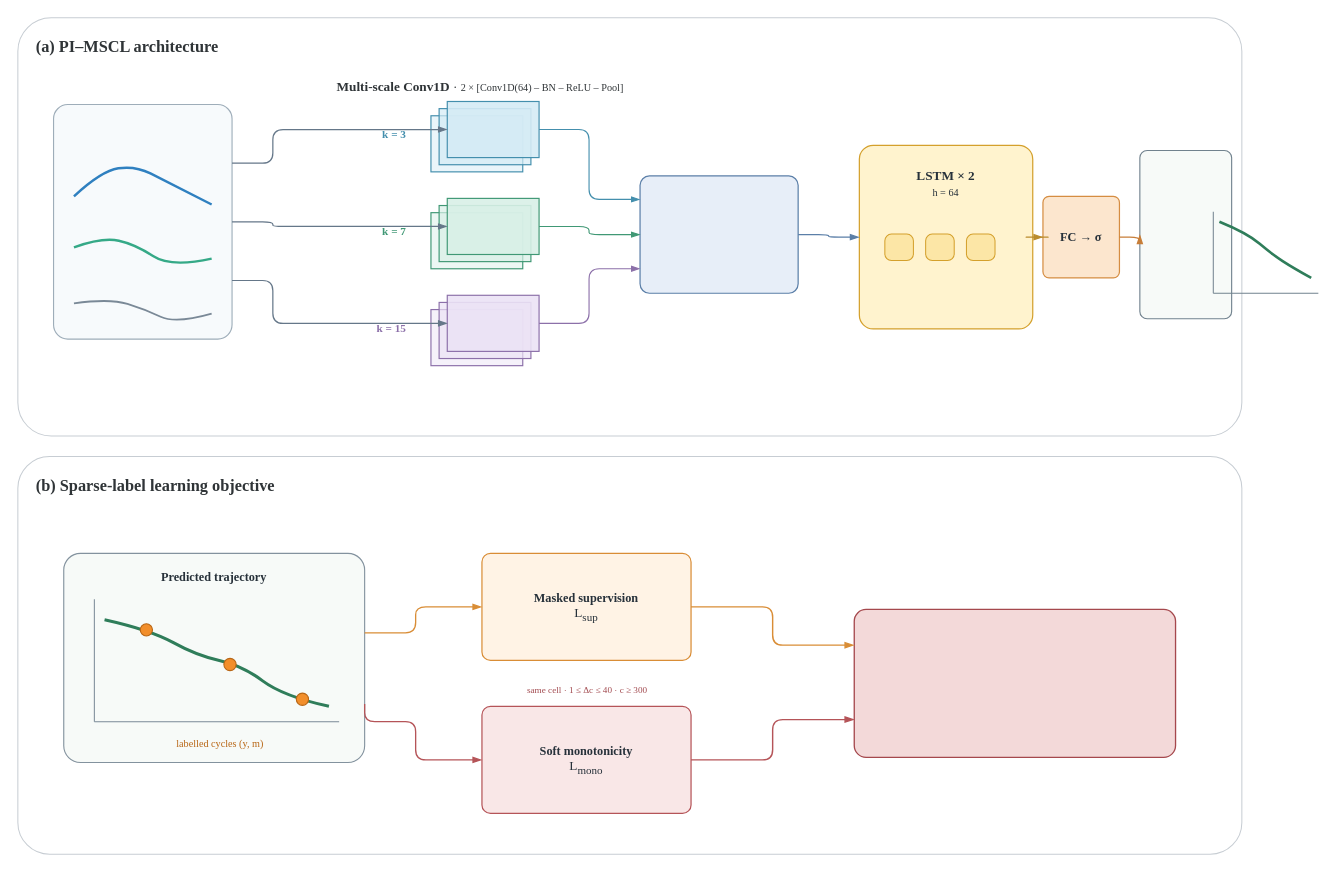
Image size: 1337x872. Some labels were removed from this diagram. Each missing label, with the centre of its shape:
Charging features Xᵢ,ₜ · 40 × 16: the point at 142,221
Feature fusion Concat → 1×1 Conv 192 → 128: the point at 718,234
SOH ŷ ∈ (0, 1): the point at 1185,234
Training objective L = L sup + λ mono L mono: the point at 1014,683
